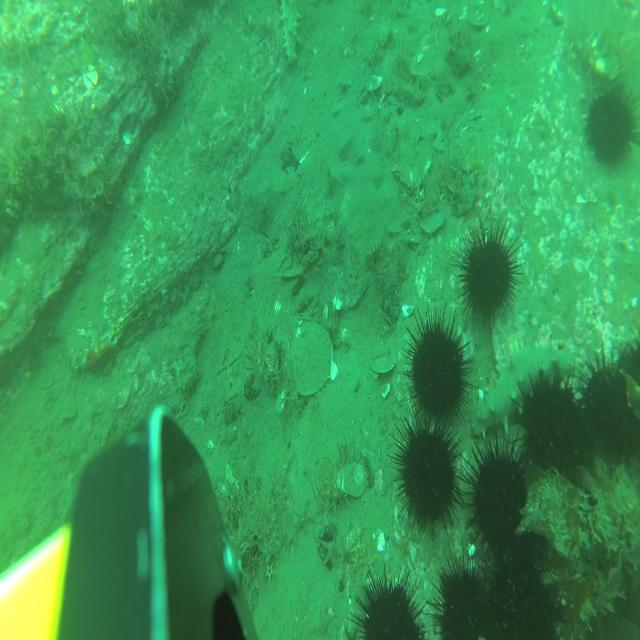echinus: (391, 405, 463, 540), (463, 422, 533, 556), (403, 305, 475, 428), (514, 363, 581, 490), (452, 218, 526, 330), (478, 551, 552, 640), (581, 348, 632, 469), (350, 566, 429, 640), (431, 546, 489, 640), (584, 81, 640, 176), (619, 343, 640, 458)
holothurian: (470, 348, 576, 438), (279, 0, 300, 63)
scallop: (289, 323, 335, 398), (338, 462, 368, 499), (371, 352, 396, 375)
